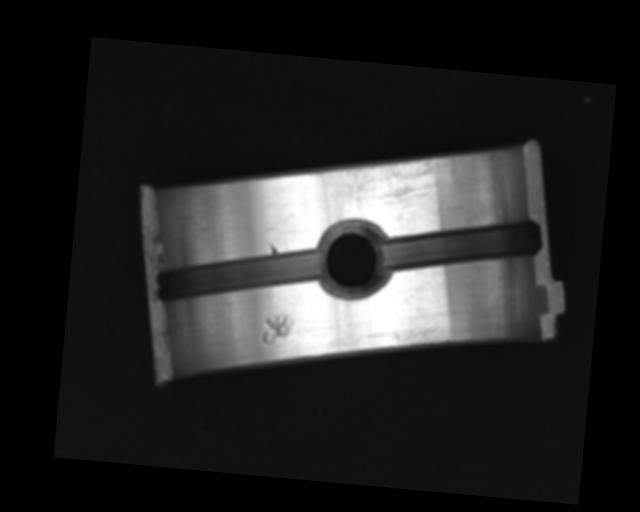bruise: (259, 313, 294, 348), (267, 241, 279, 255)
gap: (153, 235, 323, 313), (380, 208, 543, 285)
hole: (313, 218, 393, 301)
scratch: (314, 140, 463, 223)
